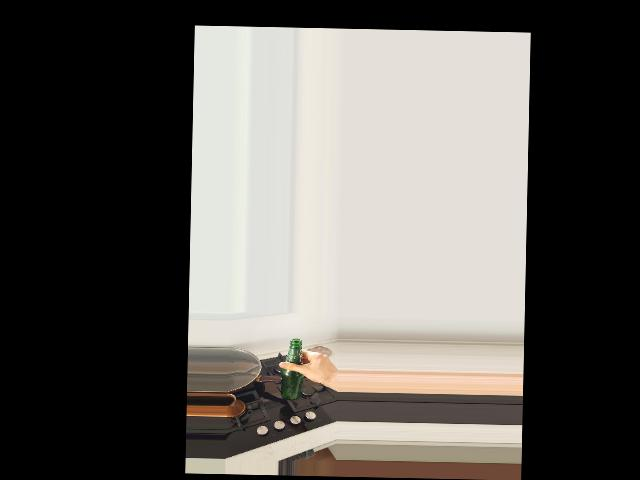beer: (280, 339, 302, 400)
